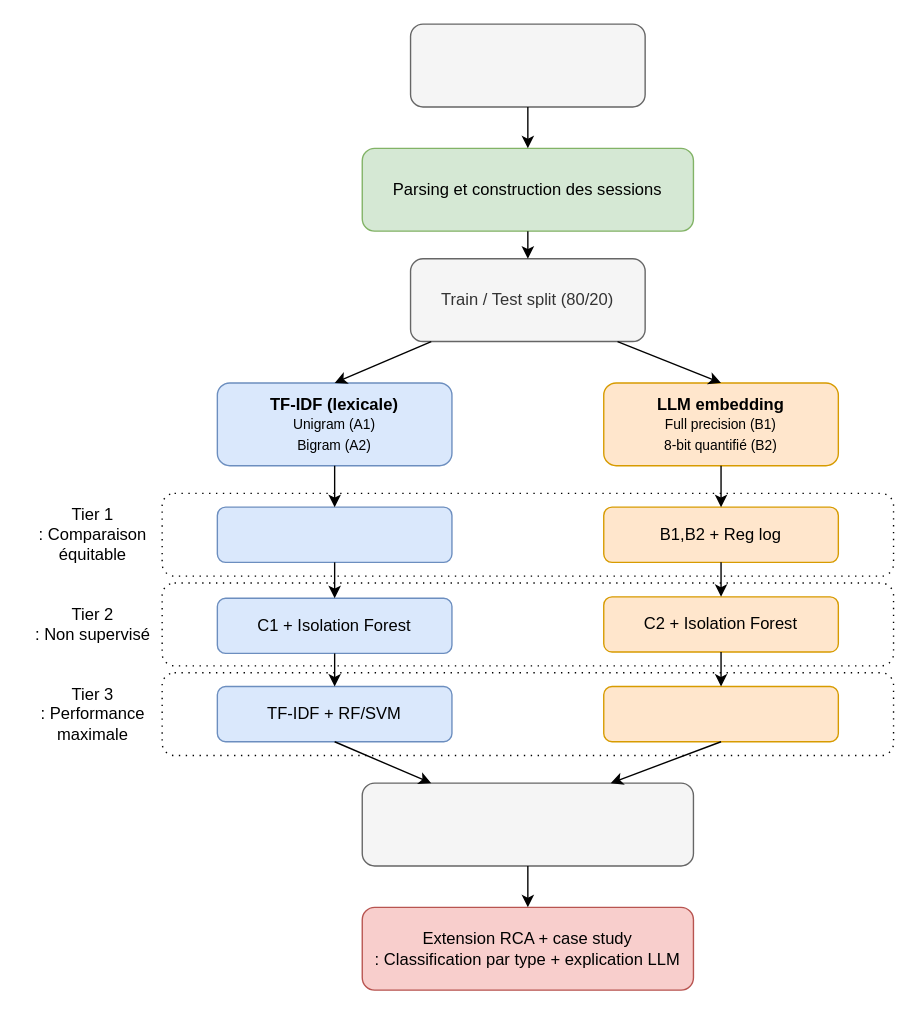
This 918x1014 diagram has some shape labels left out. Here are the shapes that lost their labels. From the top down, the box of each, then its label:
(409, 23, 645, 107): HDFS.log (11,2M lignes)
(216, 506, 452, 562): A1,A2 + Reg log
(602, 685, 838, 742): LLM + RF/SVM
(361, 782, 693, 866): évaluation comparative
